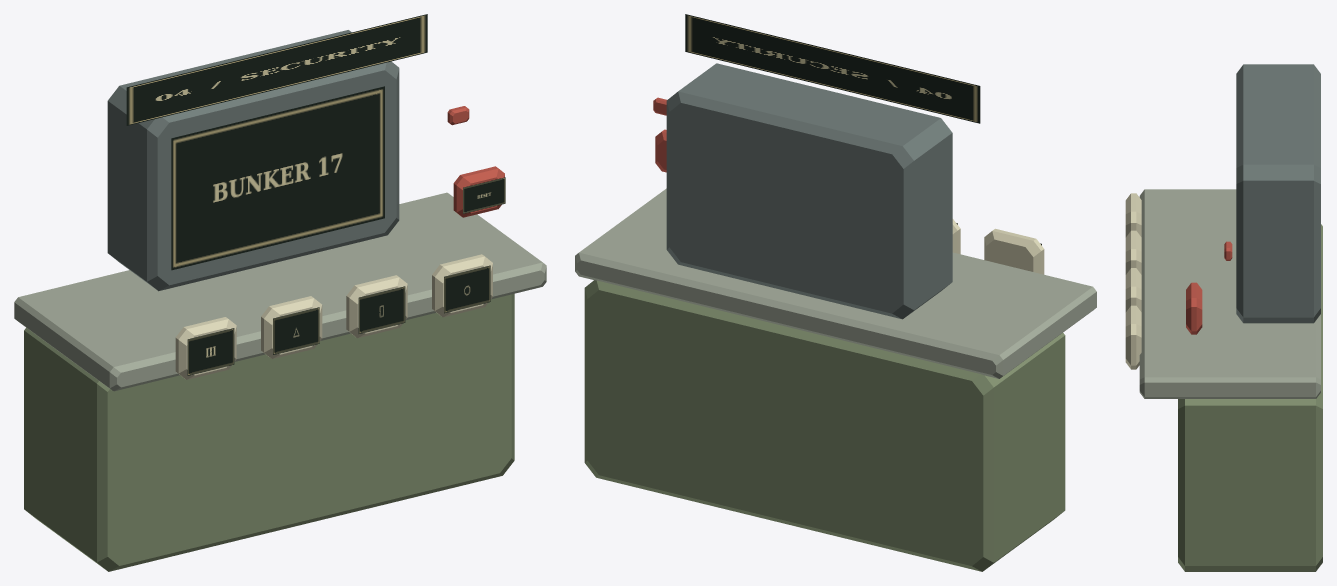
File: control-console.glb
3 views of the same model, side by side, from view 1: azimuth 30°, elevation 25°; view 2: azimuth 150°, elevation 25°; view 3: azimuth 270°, elevation 25° (orthographic). The views are drawn at different scales.
Visible parts, largest first — view 1: ConsoleBase, ConsoleDeck, CRTScreen, CRTHousing, ConsoleTitle, SymbolLabel_0, SymbolLabel_2, SymbolLabel_1, SymbolLabel_3, Symbol_2, Symbol_0, Symbol_1 (+3 smaller); view 2: ConsoleBase, CRTHousing, ConsoleDeck, ConsoleTitle, Symbol_0; view 3: ConsoleDeck, ConsoleBase, CRTHousing, Symbol_3, ResetButton, Symbol_1, Symbol_2, Symbol_0.
Boxes of the visible parts, x1=… form: ConsoleBase: x1=24, y1=293, x2=514, y2=571; ConsoleDeck: x1=14, y1=192, x2=546, y2=391; CRTScreen: x1=171, y1=86, x2=384, y2=270; CRTHousing: x1=107, y1=30, x2=399, y2=291; ConsoleTitle: x1=126, y1=14, x2=427, y2=125; SymbolLabel_0: x1=187, y1=328, x2=234, y2=375; SymbolLabel_2: x1=358, y1=286, x2=405, y2=333; SymbolLabel_1: x1=273, y1=307, x2=319, y2=354; SymbolLabel_3: x1=444, y1=265, x2=490, y2=313; Symbol_2: x1=346, y1=275, x2=407, y2=338; Symbol_0: x1=175, y1=317, x2=236, y2=379; Symbol_1: x1=261, y1=296, x2=322, y2=358; ConsoleBase: x1=584, y1=280, x2=1065, y2=571; CRTHousing: x1=666, y1=63, x2=952, y2=319; ConsoleDeck: x1=575, y1=188, x2=1096, y2=378; ConsoleTitle: x1=685, y1=14, x2=980, y2=123; Symbol_0: x1=984, y1=228, x2=1044, y2=274; ConsoleDeck: x1=1139, y1=189, x2=1320, y2=398; ConsoleBase: x1=1178, y1=224, x2=1322, y2=571; CRTHousing: x1=1236, y1=64, x2=1320, y2=323; Symbol_3: x1=1125, y1=305, x2=1141, y2=369; ResetButton: x1=1186, y1=282, x2=1202, y2=334; Symbol_1: x1=1125, y1=230, x2=1141, y2=274; Symbol_2: x1=1125, y1=268, x2=1141, y2=312; Symbol_0: x1=1125, y1=193, x2=1141, y2=237.
Bounding box in the file's own units: 2.25 × 2.22 × 0.983.
12 materials, 7 textured.
